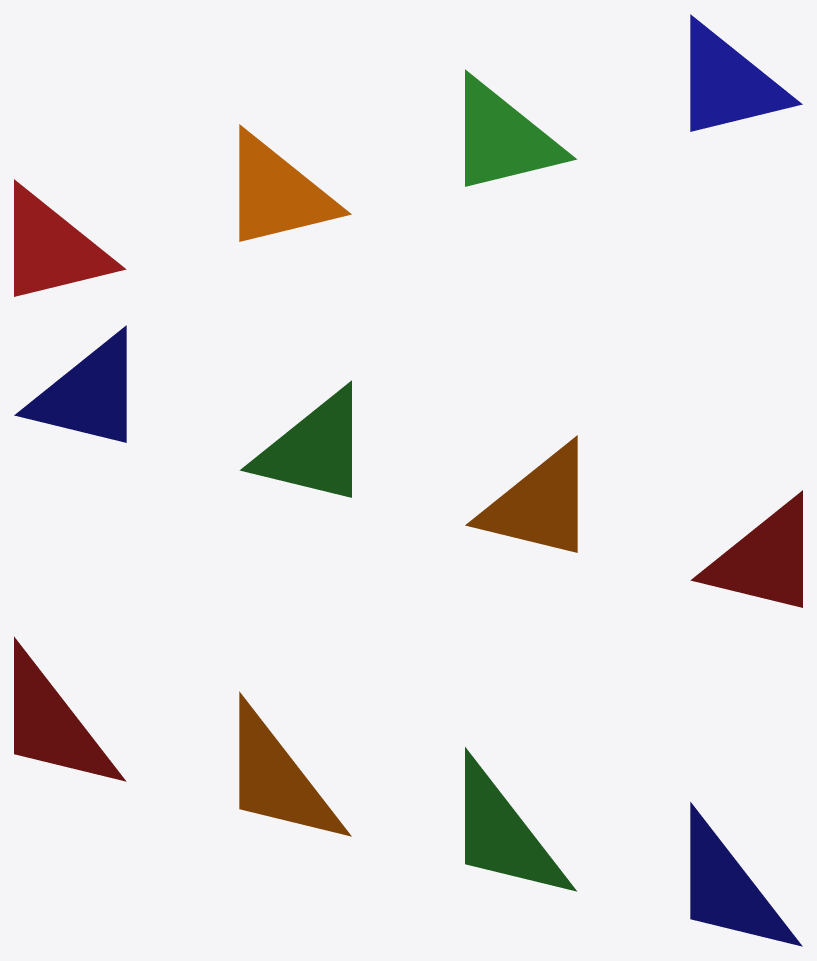
Rendered from seed_blinn_constant_shading.dae.
The picture shows the model from 3 angles, top to bottom: view 1: azimuth 30°, elevation 25°; view 2: azimuth 150°, elevation 25°; view 3: azimuth 330°, elevation 25°; orthographic projection.
Parts seen in each view (by area): view 1: B, D, A, C; view 2: B, D, A, C; view 3: B, D, A, C.
Part boxes in pixels (x1,y1,x2,y2): B: [239, 124, 351, 241]; D: [690, 14, 802, 131]; A: [14, 179, 126, 296]; C: [465, 69, 577, 186]; B: [465, 435, 577, 552]; D: [14, 325, 126, 442]; A: [690, 490, 802, 607]; C: [239, 380, 351, 497]; B: [239, 691, 351, 836]; D: [690, 802, 802, 946]; A: [14, 636, 126, 781]; C: [465, 747, 576, 891].
Bounding box in the file's own units: 7 × 1 × 0.
